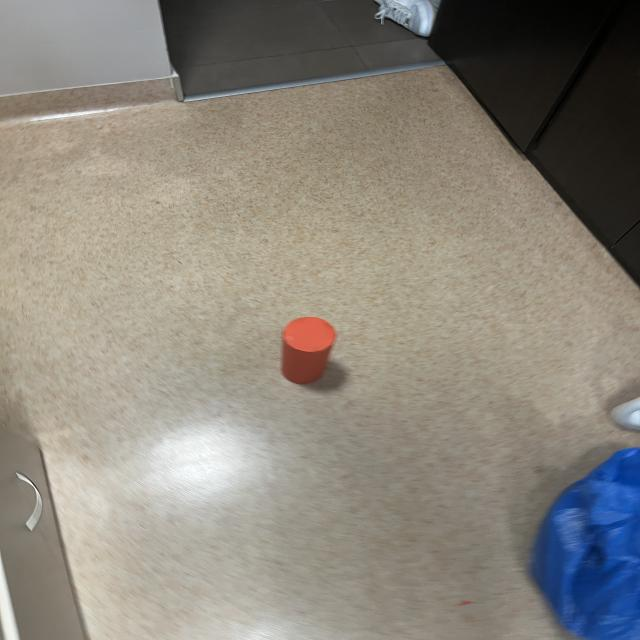przeszkoda: (281, 317, 336, 384)
